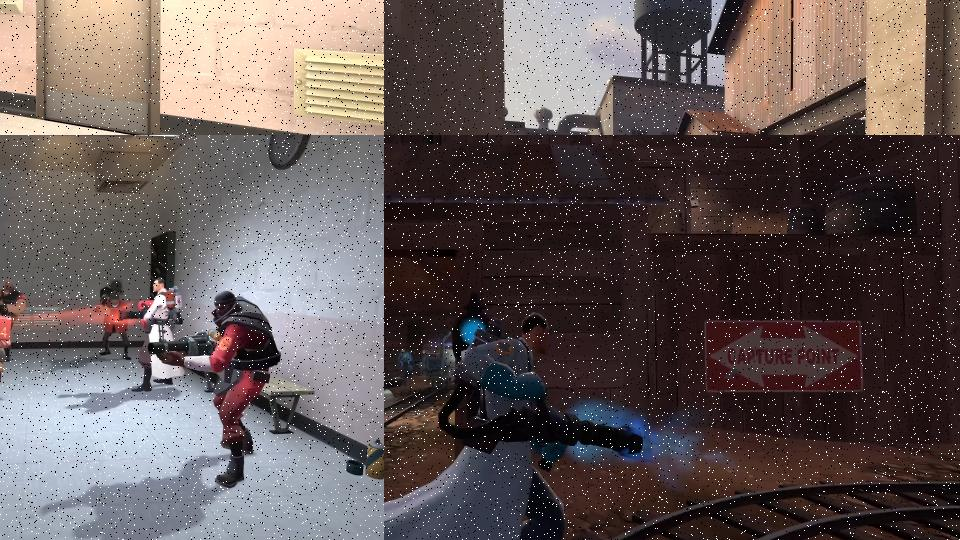Enemy: (384, 312, 644, 540), (146, 286, 287, 492), (116, 274, 189, 396), (93, 288, 135, 364), (0, 276, 29, 364), (384, 335, 403, 430), (0, 292, 14, 404), (399, 347, 423, 385)
